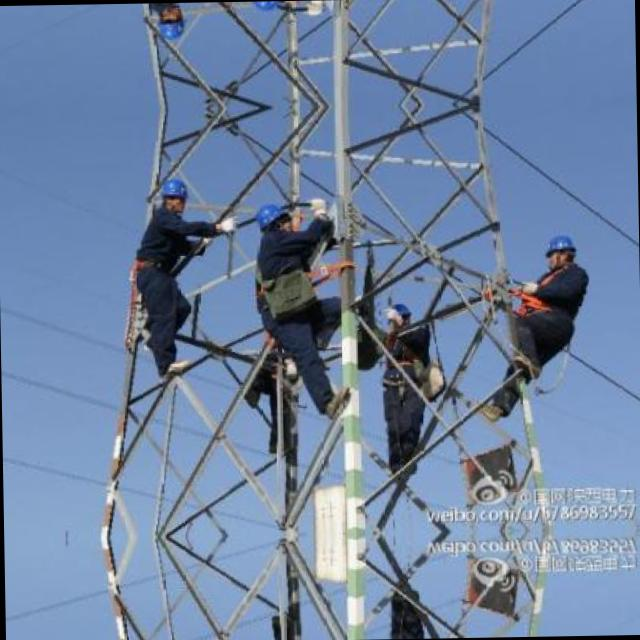helmet: (540, 228, 578, 270), (255, 202, 296, 240), (156, 4, 188, 42), (159, 176, 191, 213), (384, 302, 411, 332), (250, 0, 292, 14)
